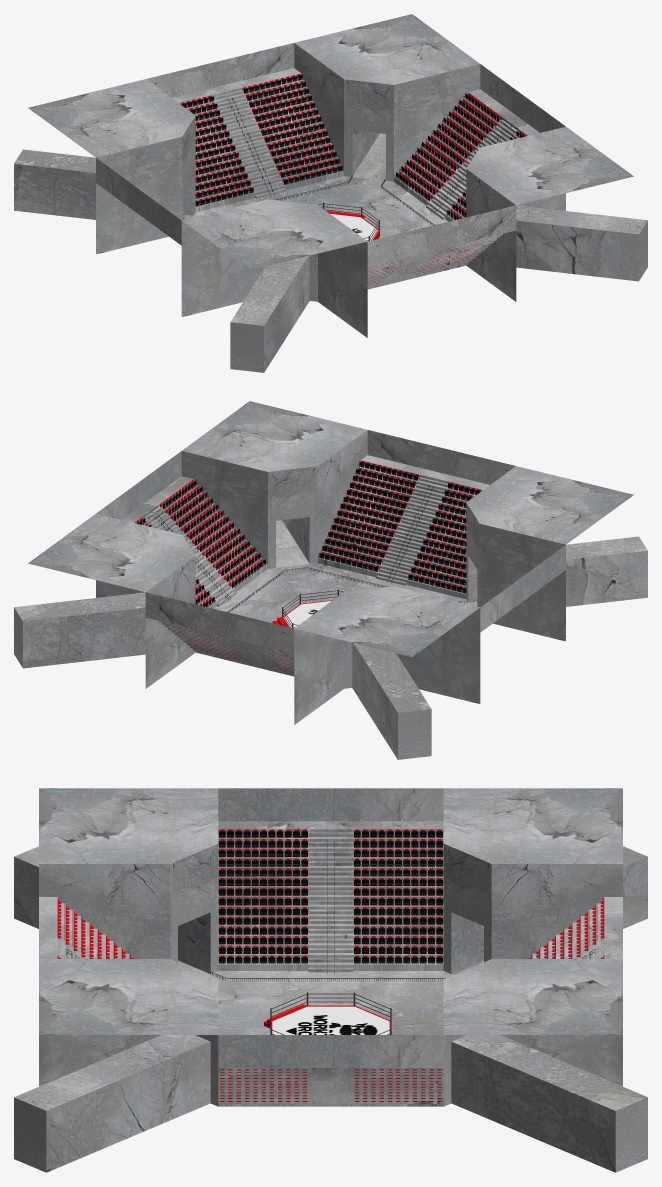
File: Arena_Final(1).fbx
The picture shows the model from 3 angles, top to bottom: view 1: azimuth 30°, elevation 25°; view 2: azimuth 150°, elevation 25°; view 3: azimuth 270°, elevation 25°; orthographic projection. The views are drawn at different scales.
Visible parts, largest first — view 1: Entradas e Saidas, Estadio, Plateia, Bancos, Grade Plateia, Degrau, Rigue; view 2: Entradas e Saidas, Estadio, Plateia, Bancos, Grade Plateia, Degrau, Rigue; view 3: Entradas e Saidas, Estadio, Plateia, Bancos, Grade Plateia, Degrau, Rigue.
Boxes of the visible parts, bbox=[...] form: Entradas e Saidas: bbox=[14, 14, 647, 372]; Estadio: bbox=[96, 43, 565, 289]; Plateia: bbox=[181, 75, 524, 219]; Bancos: bbox=[181, 74, 527, 286]; Grade Plateia: bbox=[184, 77, 520, 220]; Degrau: bbox=[214, 90, 519, 251]; Rigue: bbox=[318, 202, 379, 241]; Entradas e Saidas: bbox=[14, 401, 647, 759]; Estadio: bbox=[96, 430, 565, 676]; Plateia: bbox=[137, 462, 480, 606]; Bancos: bbox=[134, 461, 480, 671]; Grade Plateia: bbox=[141, 464, 477, 607]; Degrau: bbox=[142, 477, 447, 638]; Rigue: bbox=[272, 589, 343, 628]; Entradas e Saidas: bbox=[14, 788, 647, 1172]; Estadio: bbox=[39, 788, 622, 1106]; Plateia: bbox=[219, 831, 442, 963]; Bancos: bbox=[57, 829, 604, 1101]; Grade Plateia: bbox=[64, 835, 597, 964]; Degrau: bbox=[57, 832, 604, 972]; Rigue: bbox=[264, 992, 391, 1034].
Size of the model in its own units: 18324 by 4060 by 18324.
Materials: 5 (3 with a texture image).
